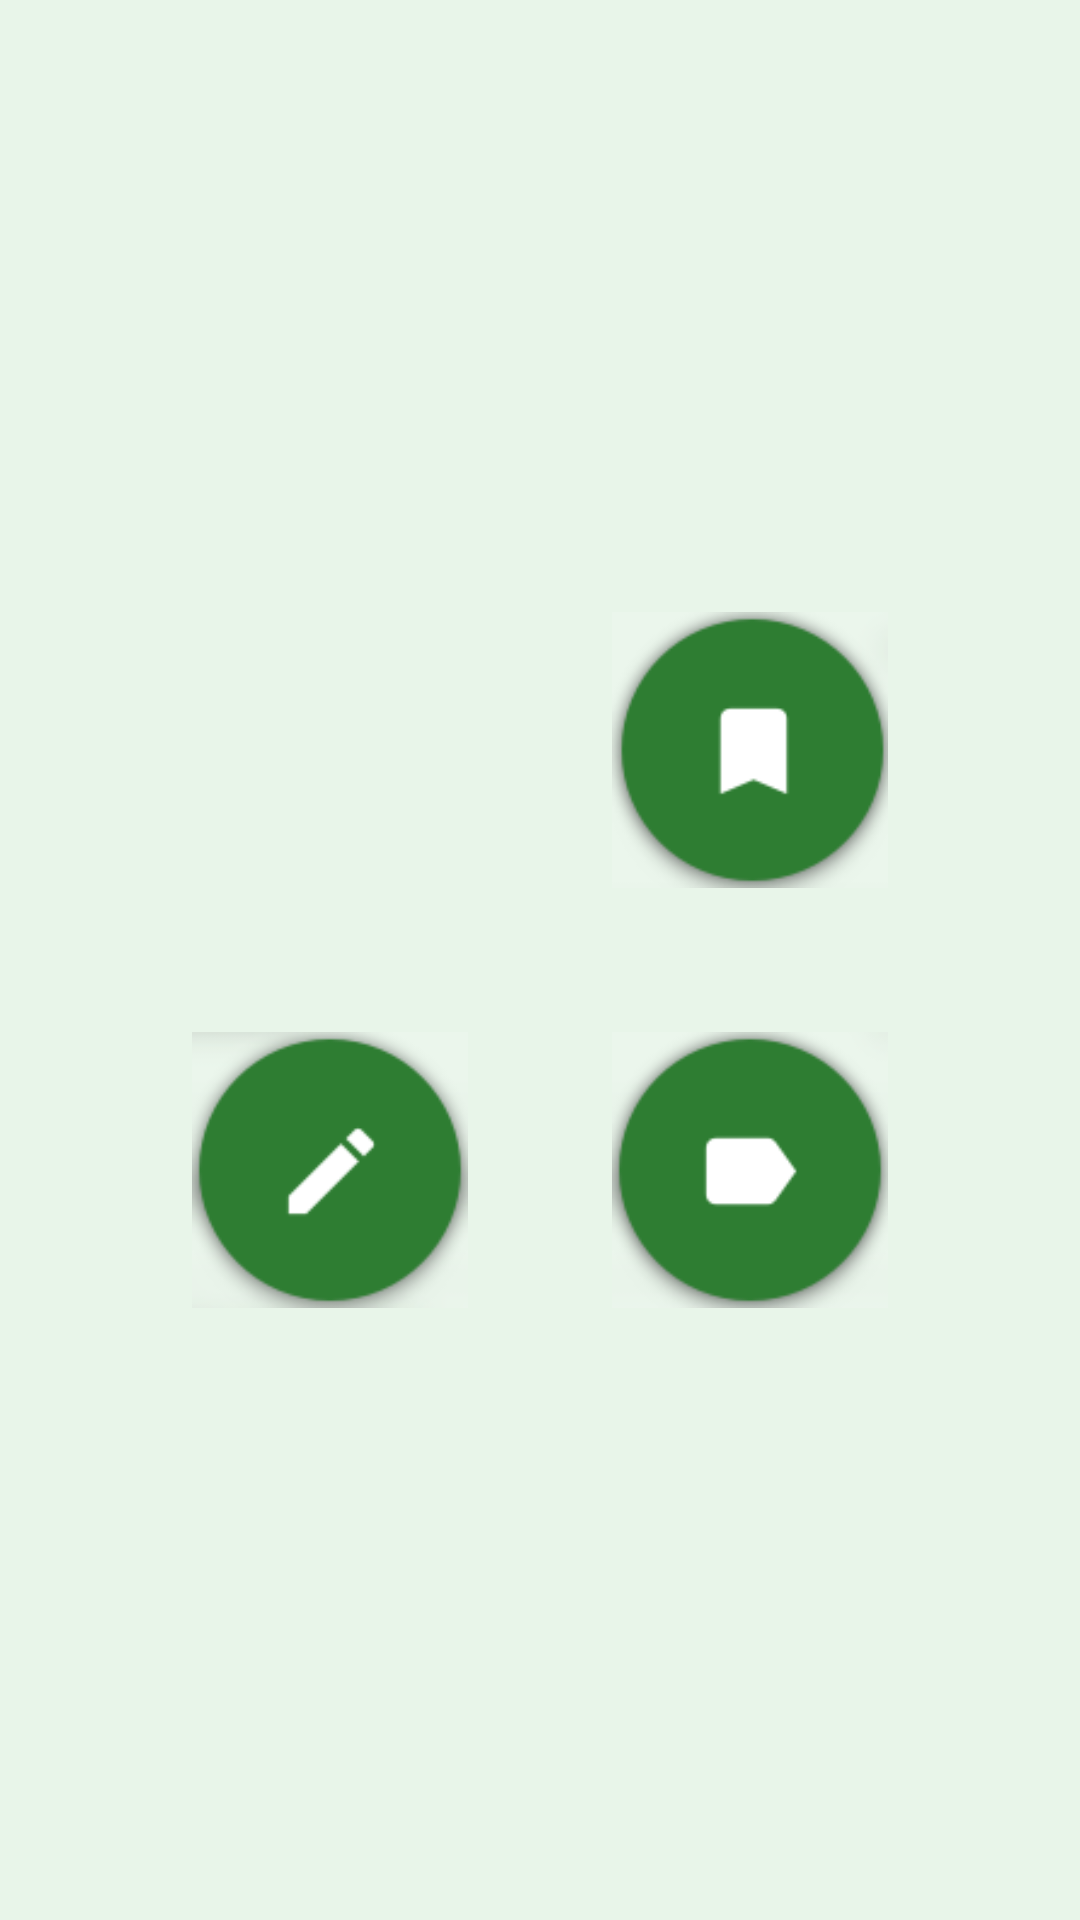

Named icons in this screenshot (1080x1920) and their centers, [x,y]:
mark: [750,750]
pencil: [330,1170]
